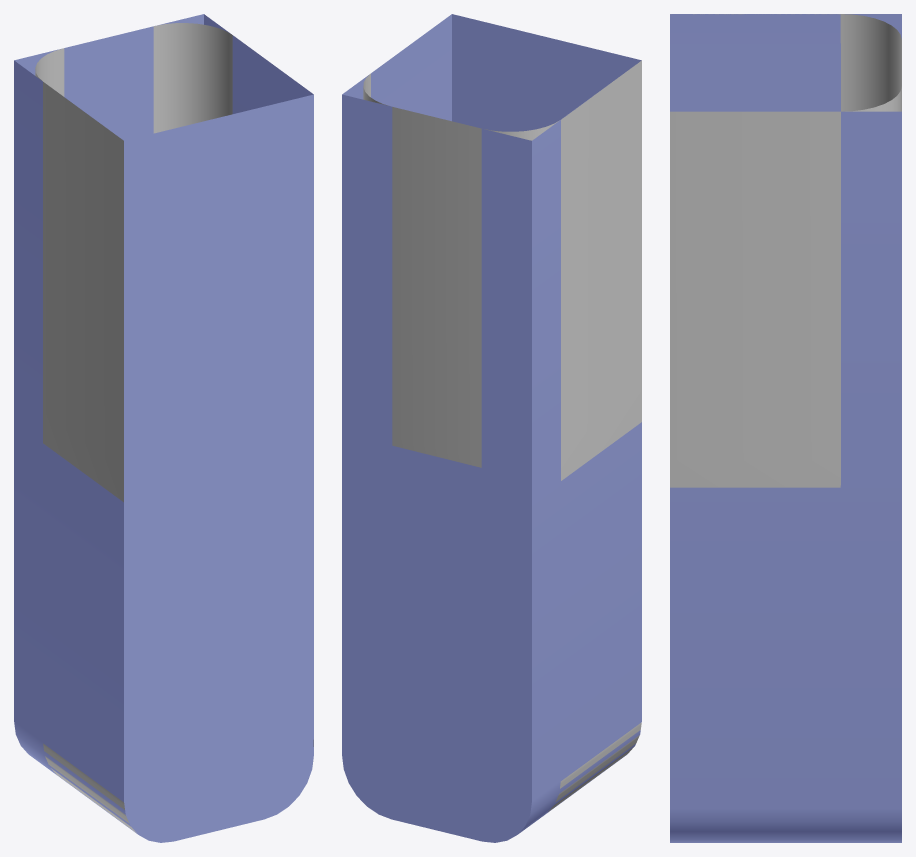
Rendered from WallBrick.fbx.
The picture shows the model from 3 angles, left to right: view 1: azimuth 30°, elevation 25°; view 2: azimuth 150°, elevation 25°; view 3: azimuth 270°, elevation 25°; orthographic projection. The views are drawn at different scales.
Visible parts, largest first — view 1: Wall_Reference, Brick_End; view 2: Wall_Reference, Brick_End; view 3: Wall_Reference, Brick_End.
Part boxes in pixels (box(x1,y1,x2,y2)): Wall_Reference: box(14, 14, 313, 842); Brick_End: box(35, 23, 313, 832); Wall_Reference: box(342, 14, 641, 842); Brick_End: box(363, 60, 641, 811); Wall_Reference: box(670, 14, 901, 842); Brick_End: box(670, 14, 901, 487).
Bounding box in the file's own units: 99.71 × 358 × 100.
